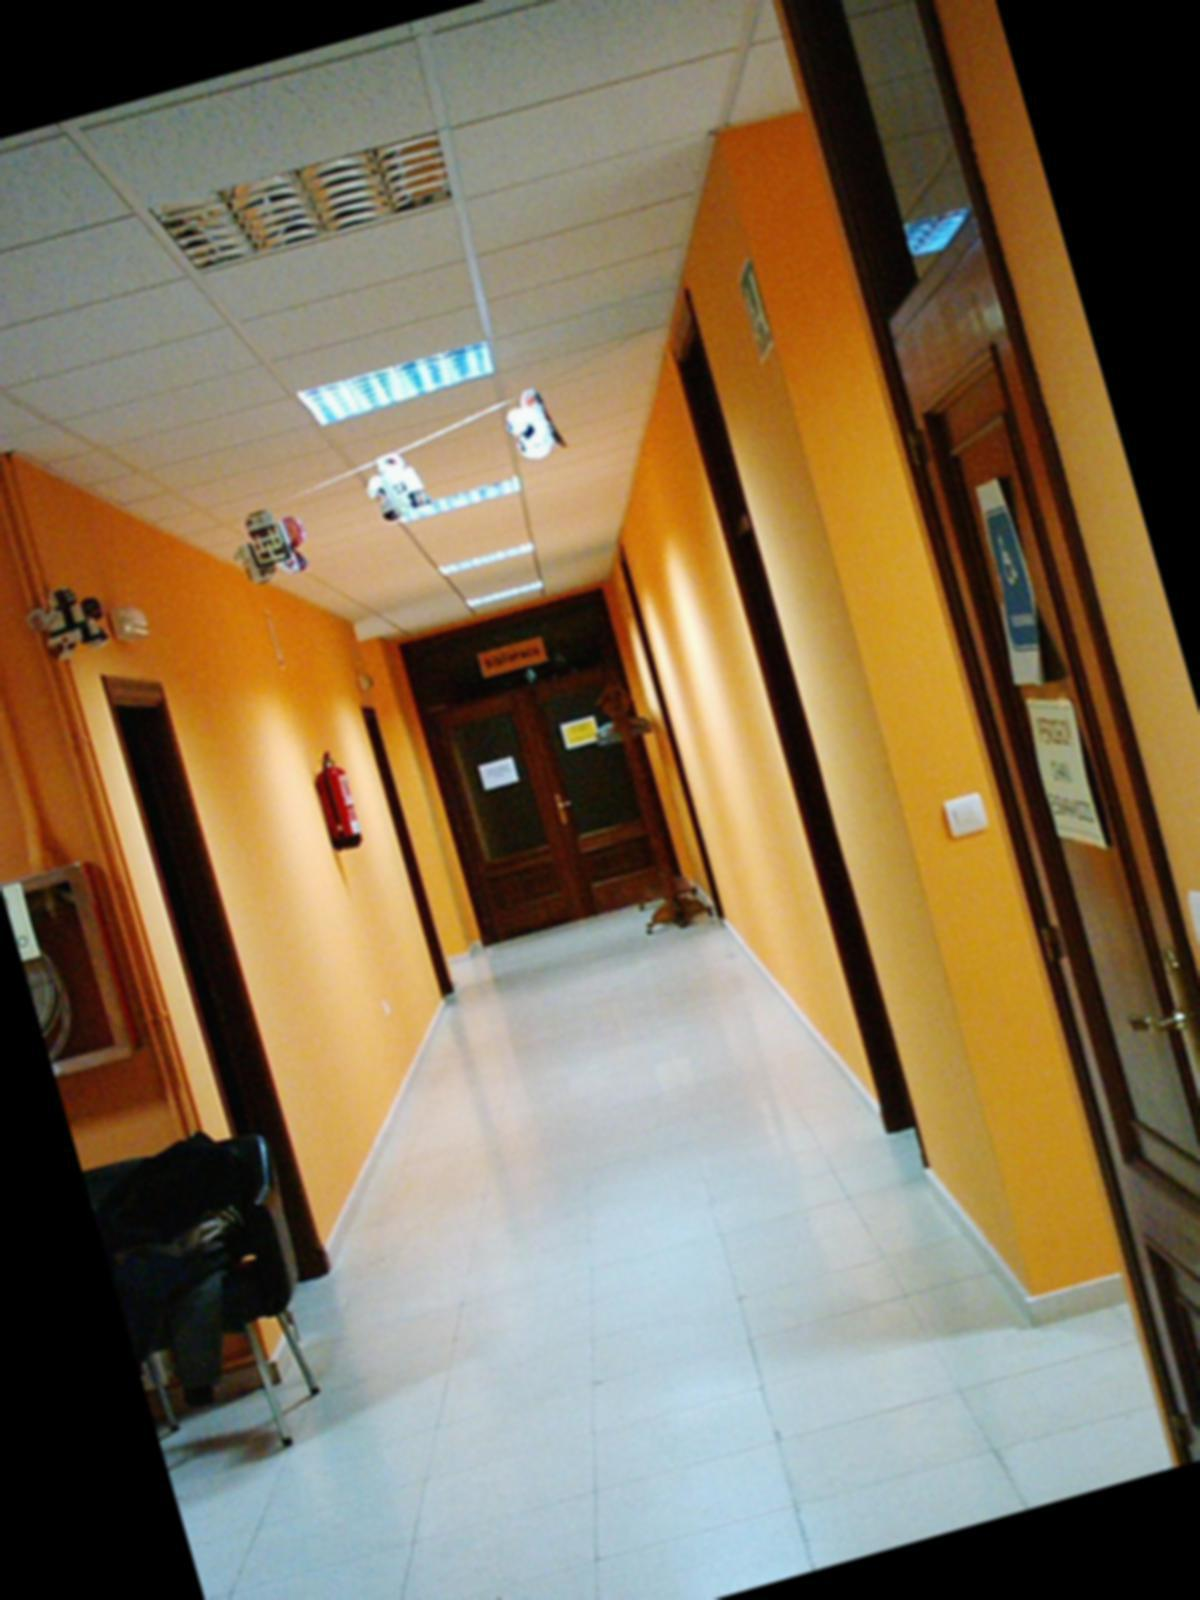Puerta: (884, 307, 1200, 1434)
